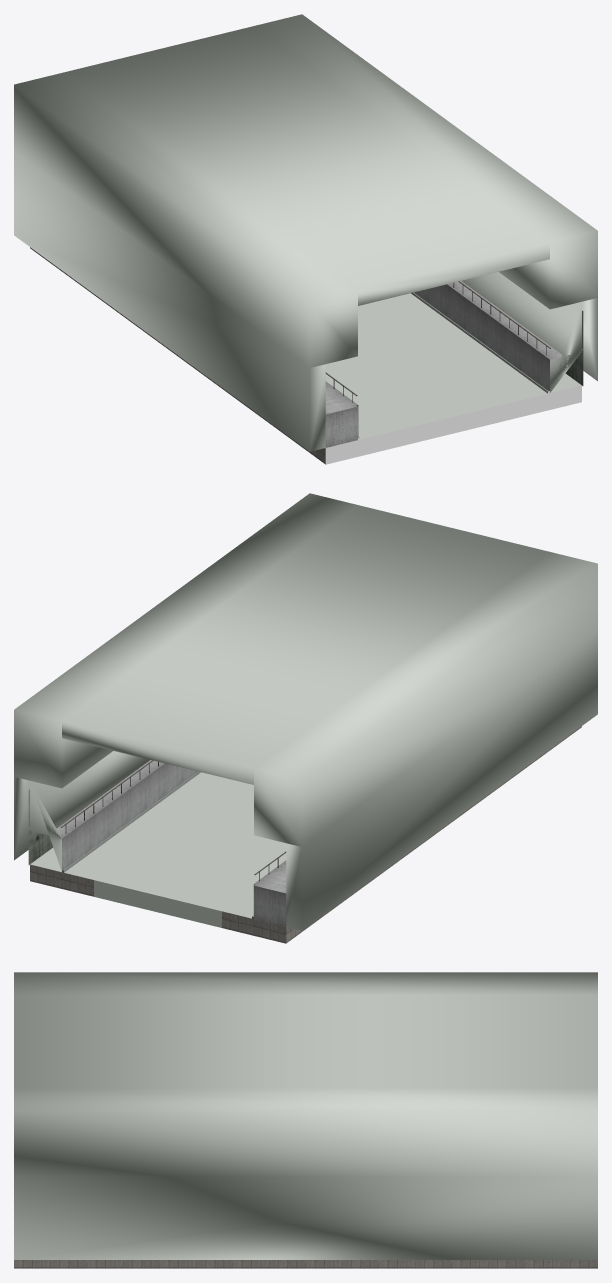
File: SnglTunnelMiddle_2.fbx
The picture shows the model from 3 angles, top to bottom: view 1: azimuth 30°, elevation 25°; view 2: azimuth 150°, elevation 25°; view 3: azimuth 270°, elevation 25°; orthographic projection.
Parts seen in each view (by area): view 1: top150, materialA150, sidewalks150, materialB150, materialG0, materialC150; view 2: top150, materialA150, sidewalks150, materialC150, materialG0; view 3: top150, materialC150.
Part boxes in pixels (box(x1,y1,x2,y2)): top150: box(14, 14, 597, 451); materialA150: box(325, 293, 581, 439); sidewalks150: box(325, 281, 582, 436); materialB150: box(325, 385, 581, 464); materialG0: box(325, 355, 562, 447); materialC150: box(30, 247, 325, 464); top150: box(14, 493, 597, 930); materialA150: box(30, 772, 286, 927); sidewalks150: box(29, 760, 286, 915); materialC150: box(30, 726, 581, 943); materialG0: box(61, 837, 286, 926); top150: box(14, 972, 597, 1259); materialC150: box(14, 1260, 597, 1268).
Size of the model in its own units: 28.8 by 16 by 51.2.
